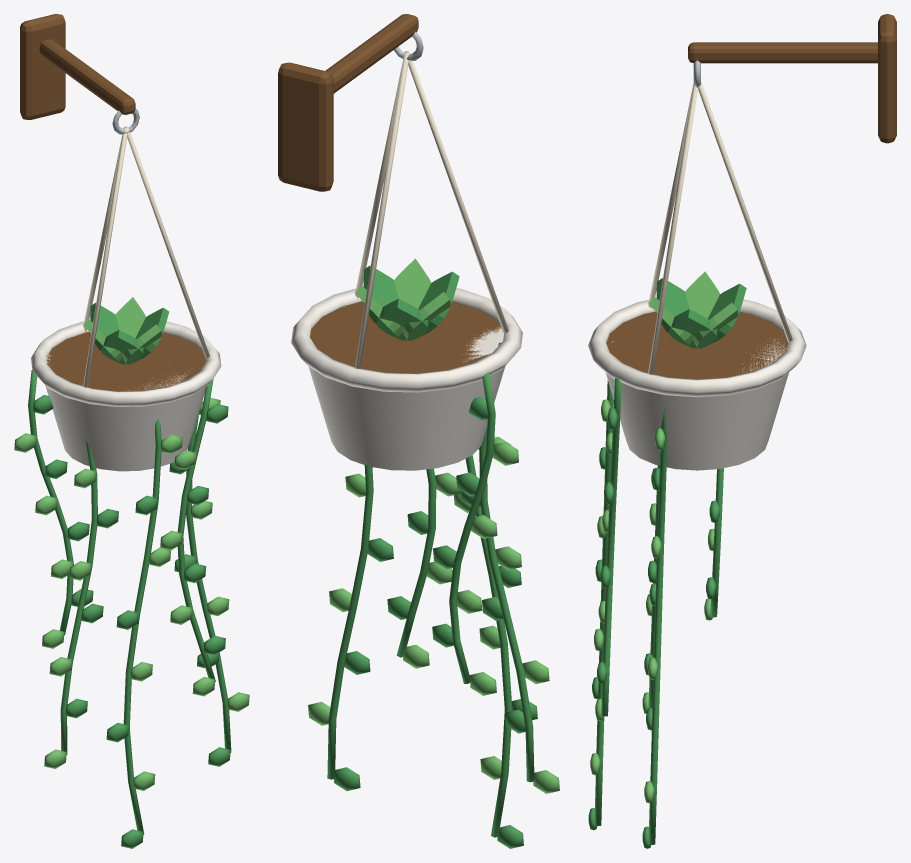
The model's file is planta-pendurada.glb.
3 views of the same model, side by side, from view 1: azimuth 30°, elevation 25°; view 2: azimuth 150°, elevation 25°; view 3: azimuth 270°, elevation 25° (orthographic). The views are drawn at different scales.
Parts seen in each view (by area): view 1: planta-pendurada; view 2: planta-pendurada; view 3: planta-pendurada.
Part boxes in pixels (x1,y1,x2,y2): planta-pendurada: (14, 14, 249, 848); planta-pendurada: (278, 14, 559, 848); planta-pendurada: (588, 14, 896, 848).
Size of the model in its own units: 0.572 by 1.93 by 0.65.
